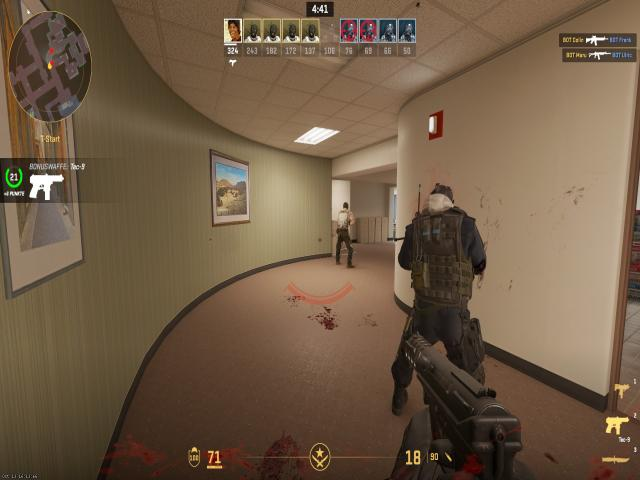CT: (398, 175, 487, 412)
CT-Head: (427, 183, 455, 214)
T: (335, 201, 356, 265)
T-Head: (342, 202, 350, 211)
